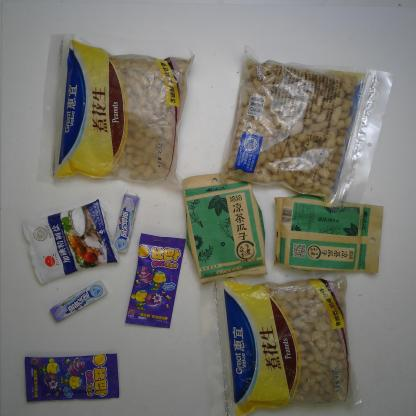Candy: (125, 233, 186, 329), (23, 353, 121, 402), (48, 280, 108, 323), (110, 190, 140, 252)
Dried Food: (219, 44, 395, 206), (36, 32, 196, 184), (200, 271, 364, 415), (181, 172, 268, 285), (272, 192, 384, 274)
Seasoner: (22, 199, 121, 285)
